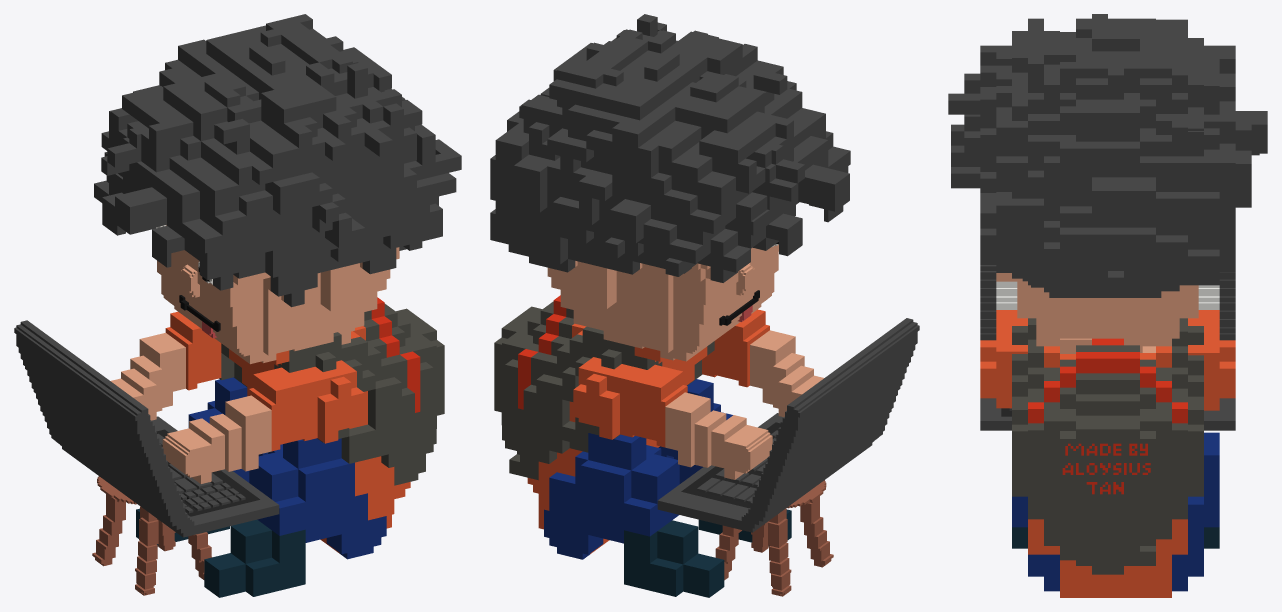
The model's file is AloysiusDraco.gltf.
The picture shows the model from 3 angles, left to right: view 1: azimuth 30°, elevation 25°; view 2: azimuth 150°, elevation 25°; view 3: azimuth 270°, elevation 25°; orthographic projection. The views are drawn at different scales.
Visible parts, largest first — view 1: aloysius; view 2: aloysius; view 3: aloysius.
Boxes of the visible parts, <box> form: aloysius: <box>14,14,461,597</box>; aloysius: <box>490,14,919,597</box>; aloysius: <box>948,14,1267,597</box>.
Bounding box in the file's own units: 15.9 × 21.6 × 12.
1 material, 1 textured.
